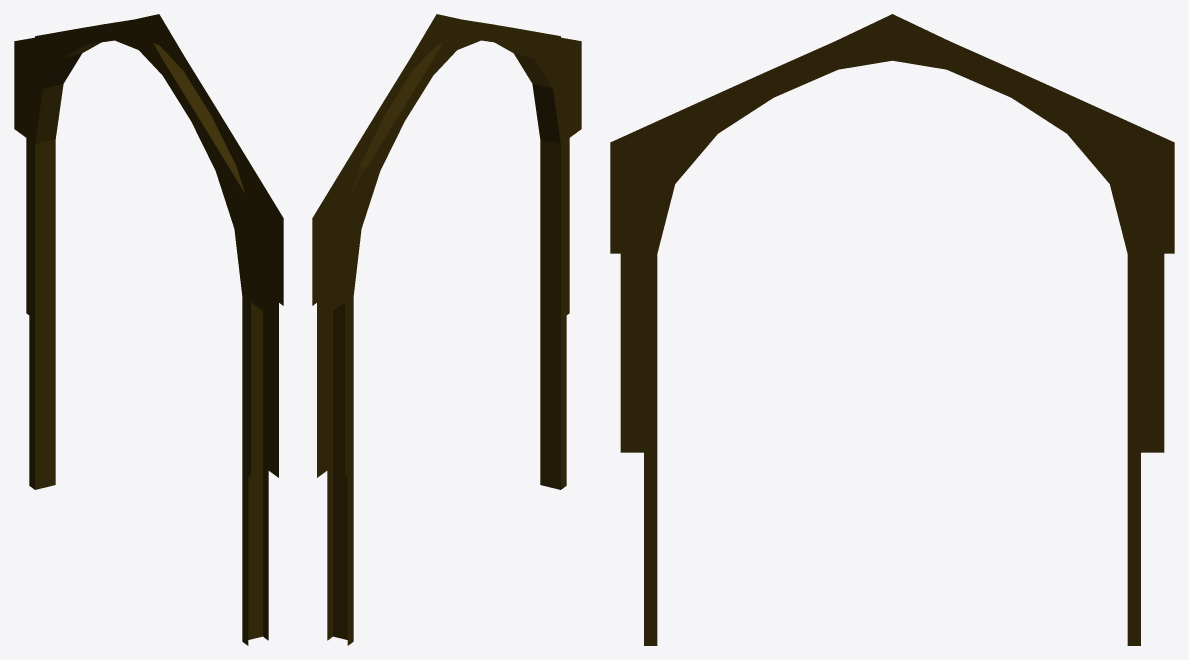
File: Museum_Ark_Big_02.fbx
3 views of the same model, side by side, from view 1: azimuth 30°, elevation 25°; view 2: azimuth 150°, elevation 25°; view 3: azimuth 270°, elevation 25° (orthographic). The views are drawn at different scales.
Visible parts, largest first — view 1: Archi_Coté.001; view 2: Archi_Coté.001; view 3: Archi_Coté.001.
Boxes of the visible parts, box(x1,y1,x2,y2) form: Archi_Coté.001: box(14, 14, 283, 645); Archi_Coté.001: box(312, 14, 581, 645); Archi_Coté.001: box(610, 14, 1174, 645).
Size of the model in its own units: 85.75 by 2173 by 1791.
